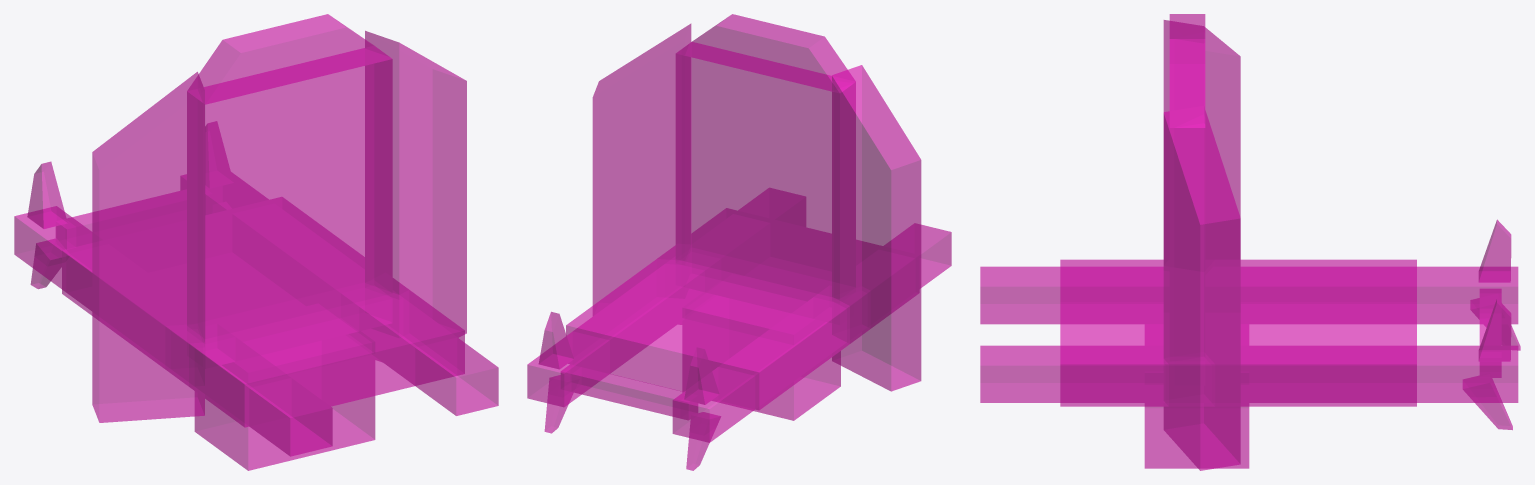
Rendered from SM_Veh_Arrow_Launcher_01_Collision.fbx.
3 renders of one model, left to right at view 1: azimuth 30°, elevation 25°; view 2: azimuth 150°, elevation 25°; view 3: azimuth 270°, elevation 25°, orthographic. The views are drawn at different scales.
Visible parts, largest first — view 1: SM_Veh_Arrow_Launcher_01_Collision; view 2: SM_Veh_Arrow_Launcher_01_Collision; view 3: SM_Veh_Arrow_Launcher_01_Collision.
Part boxes in pixels (x1,y1,x2,y2): SM_Veh_Arrow_Launcher_01_Collision: (14, 14, 498, 470); SM_Veh_Arrow_Launcher_01_Collision: (527, 14, 951, 470); SM_Veh_Arrow_Launcher_01_Collision: (980, 14, 1520, 470).
Size of the model in its own units: 312 by 330 by 408.
